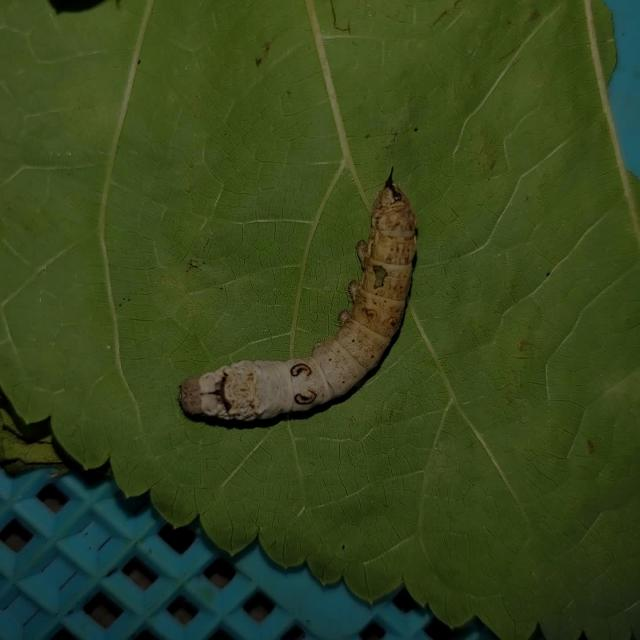Grasserie: (142, 147, 492, 471)
